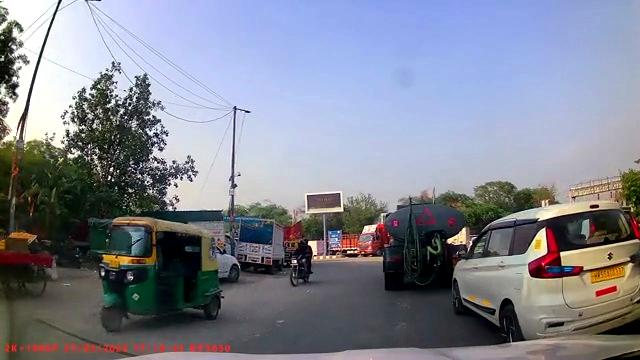motorcycle_with_helmet: (287, 238, 314, 288)
